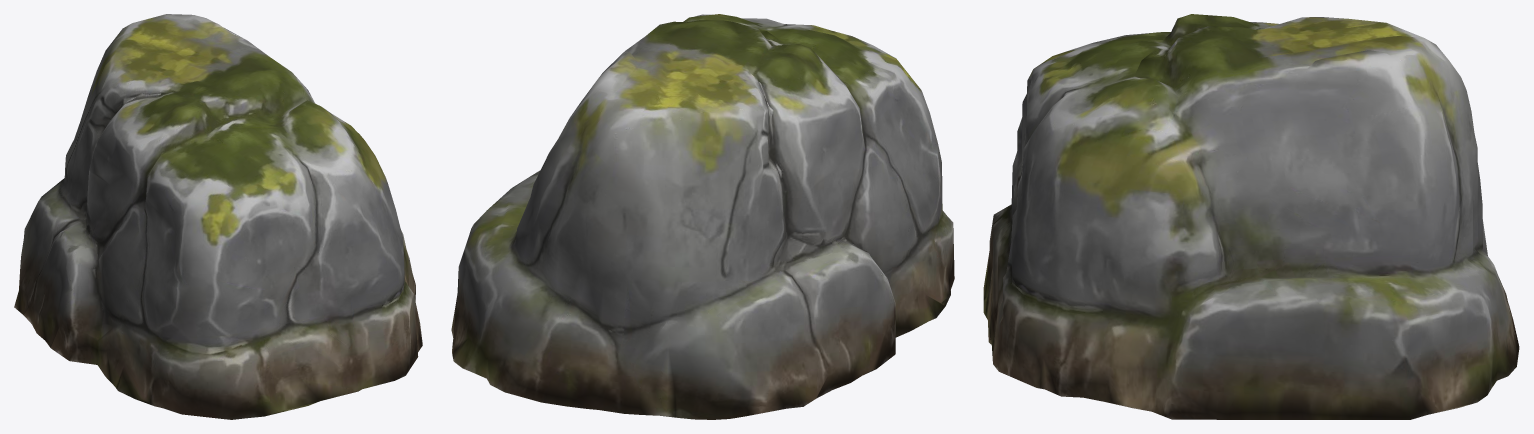
The model's file is rock_big.glb.
3 views of the same model, side by side, from view 1: azimuth 30°, elevation 25°; view 2: azimuth 150°, elevation 25°; view 3: azimuth 270°, elevation 25° (orthographic). The views are drawn at different scales.
Visible parts, largest first — view 1: rock_big; view 2: rock_big; view 3: rock_big.
Boxes of the visible parts, x1,y1,x2,y2 form: rock_big: (14, 14, 422, 419); rock_big: (451, 14, 954, 419); rock_big: (983, 14, 1519, 419).
Bounding box in the file's own units: 1.78 × 1.31 × 2.19.
1 material, 1 textured.
